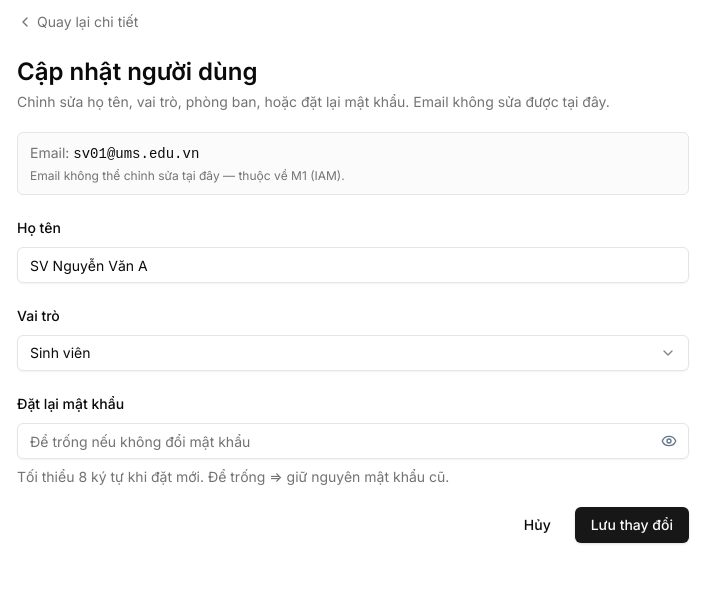
it: UserEdit — Admin edit-user flow (FE-S16) › M31-FE-S16-X5: displayName with digits → inline field error, no PATCH
The width and height of the screenshot is (707, 589).
Replace the text in the field labelled "Họ tên" with "Nguyen Van 123": (353, 265) [17,247,689,283]
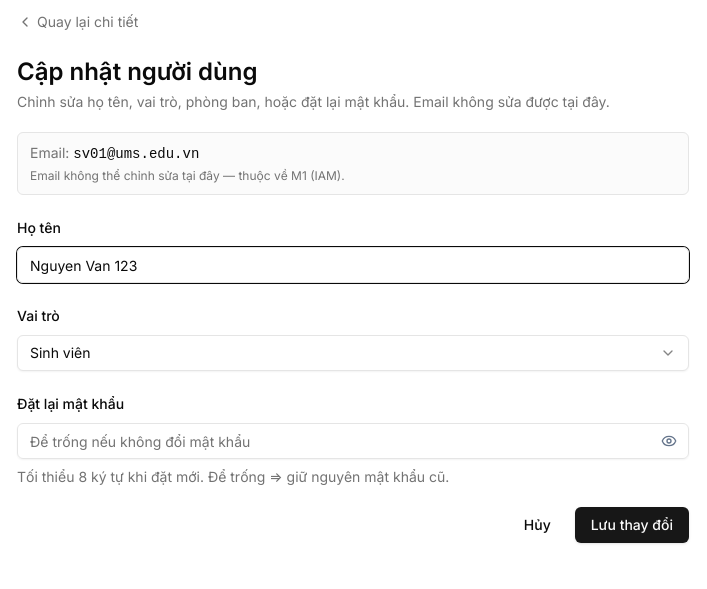
Click the button "Lưu thay đổi": (632, 525) [575,507,689,543]
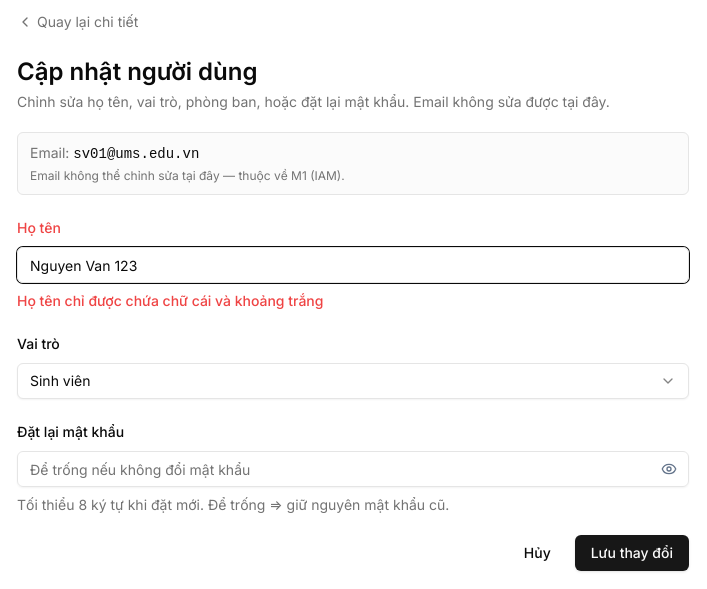
Expected: the text "Họ tên chỉ được chứa chữ cái và khoảng trắng" is shown, [17,292,324,309]
